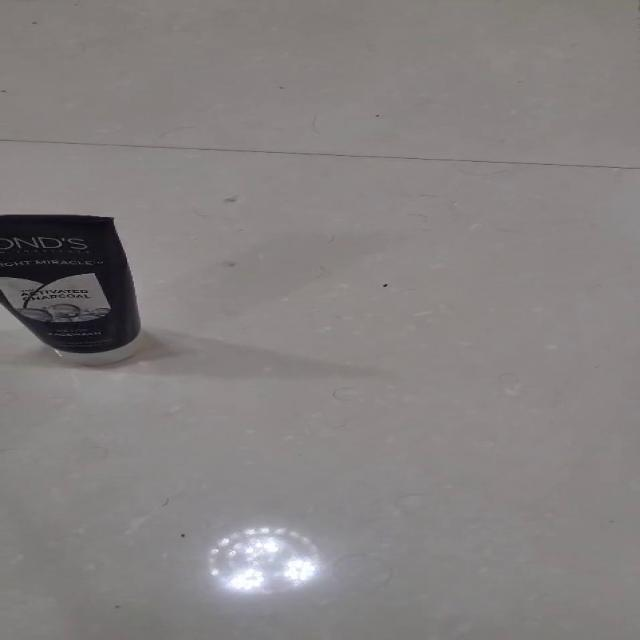plastic: (0, 213, 145, 366)
